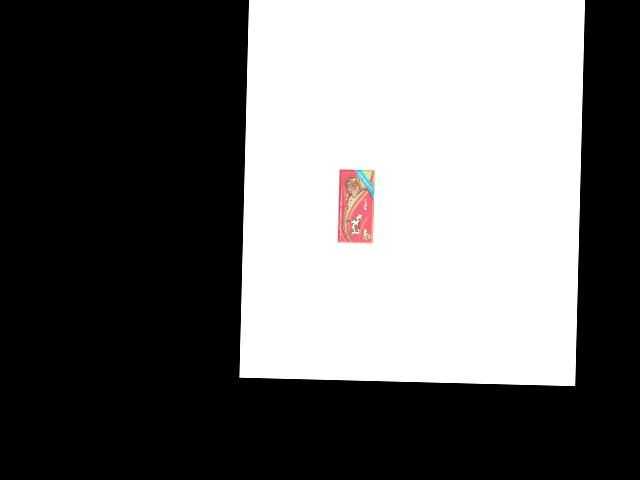chocolate: (338, 169, 375, 247)
